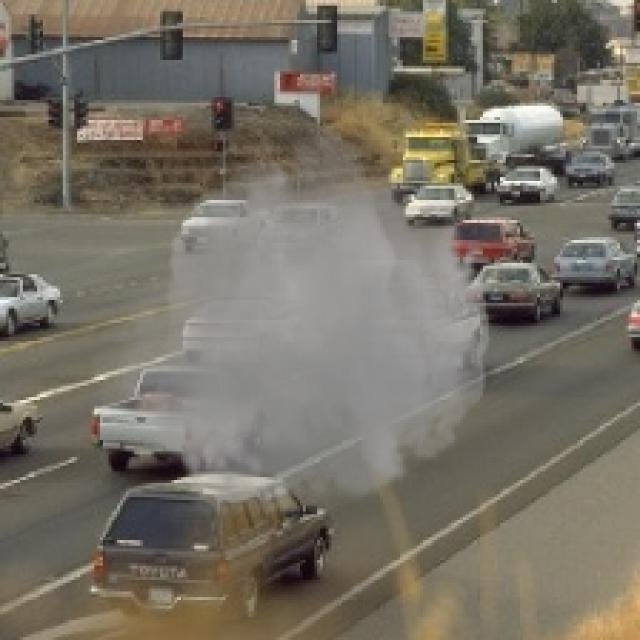Smoke: (88, 111, 500, 534)
